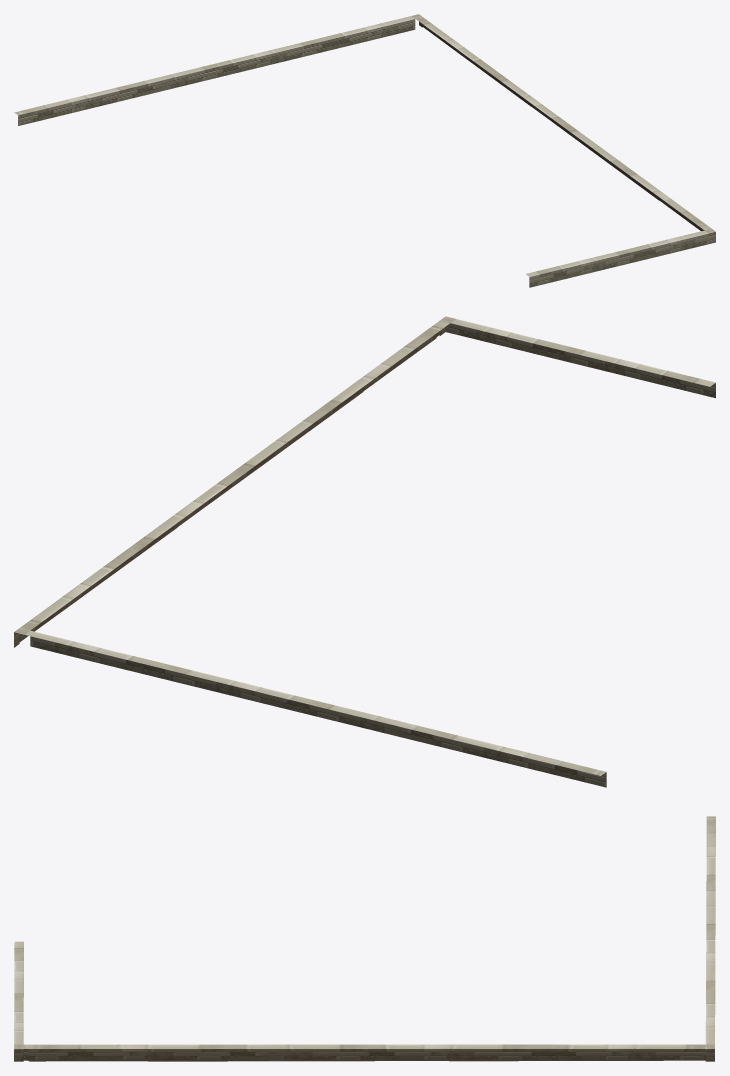
File: huayuanWK3.FBX
The picture shows the model from 3 angles, top to bottom: view 1: azimuth 30°, elevation 25°; view 2: azimuth 150°, elevation 25°; view 3: azimuth 270°, elevation 25°; orthographic projection. The views are drawn at different scales.
Visible parts, largest first — view 1: huayuanWK3; view 2: huayuanWK3; view 3: huayuanWK3.
Part boxes in pixels (x1,y1,x2,y2): huayuanWK3: (14, 14, 715, 287); huayuanWK3: (14, 316, 715, 787); huayuanWK3: (14, 816, 715, 1061).
Size of the model in its own units: 557 by 14.29 by 709.
